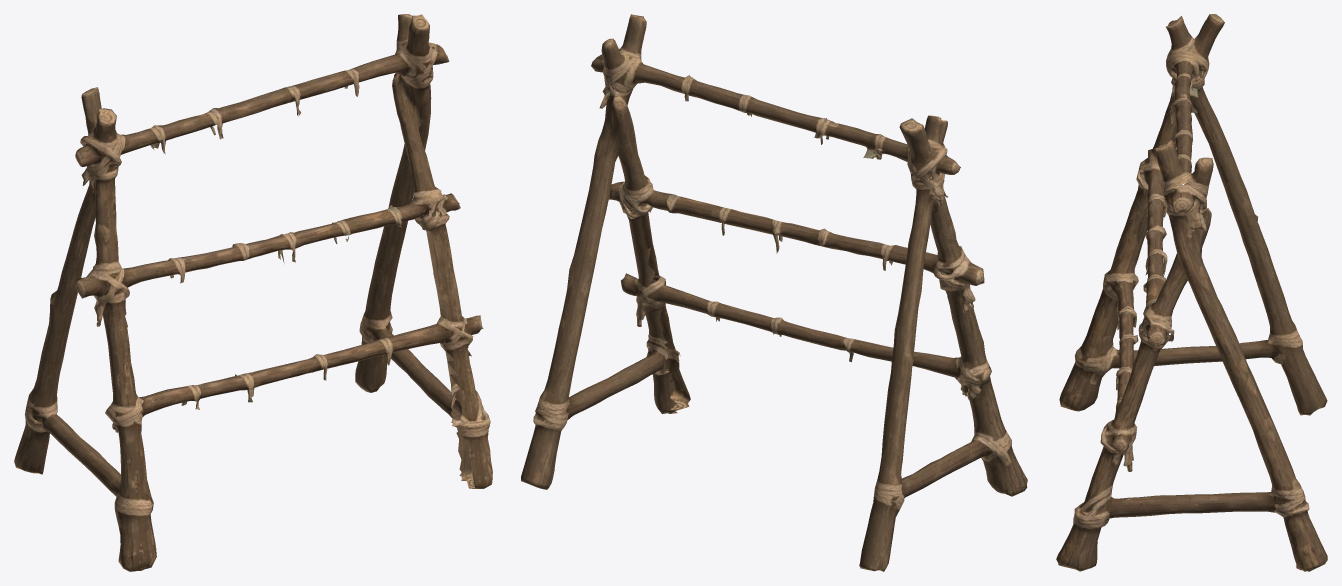
Rendered from drying-rack.glb.
The picture shows the model from 3 angles, left to right: view 1: azimuth 30°, elevation 25°; view 2: azimuth 150°, elevation 25°; view 3: azimuth 270°, elevation 25°; orthographic projection. The views are drawn at different scales.
Visible parts, largest first — view 1: Mesh0; view 2: Mesh0; view 3: Mesh0.
Part boxes in pixels (x1,y1,x2,y2): Mesh0: [14, 14, 492, 571]; Mesh0: [521, 14, 1027, 571]; Mesh0: [1056, 14, 1327, 571].
Bounding box in the file's own units: 1.02 × 1.1 × 0.6461.
1 material, 1 textured.
